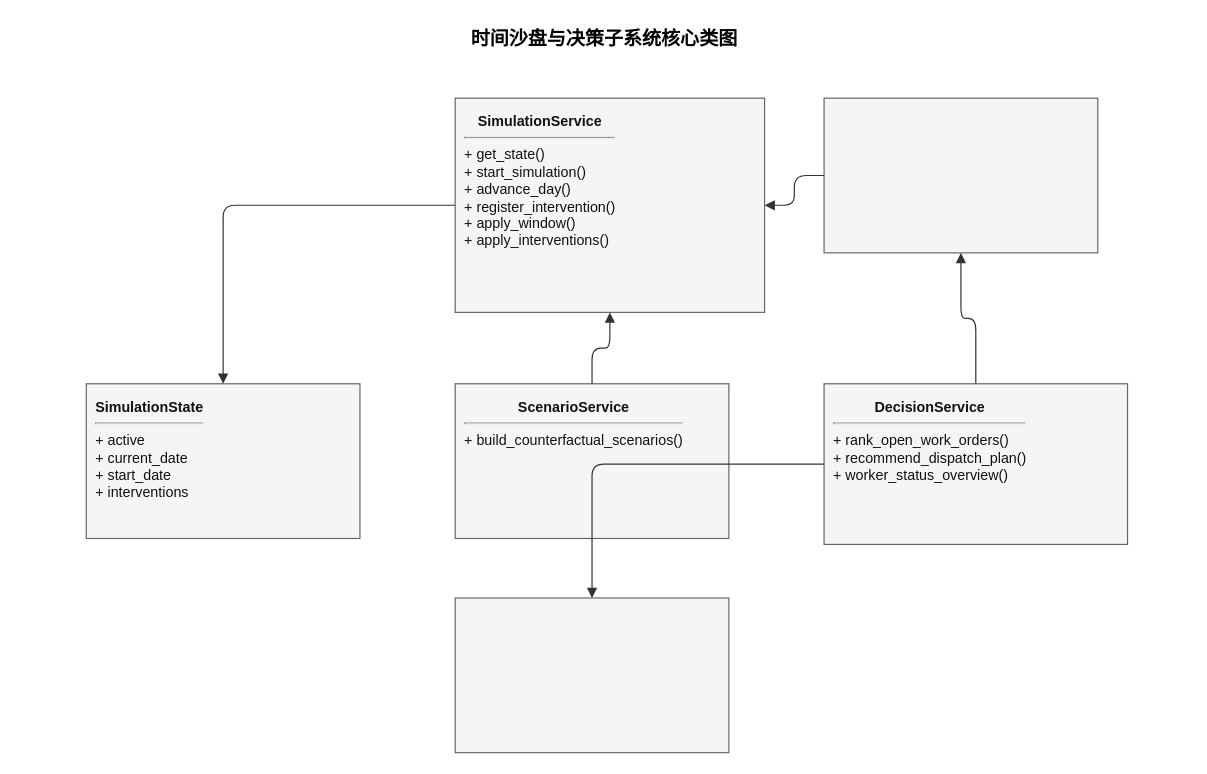
Image size: 1207x774. Some labels were removed from this diagram. Here are the shapes that lost their labels. From the top down, the centre of each, then its label:
At (x=960, y=175): "WorkOrderStore + list_work_orders() + review_work_order()".
At (x=591, y=675): "DispatchPlan + selected + deferred + worker_status + summary".
